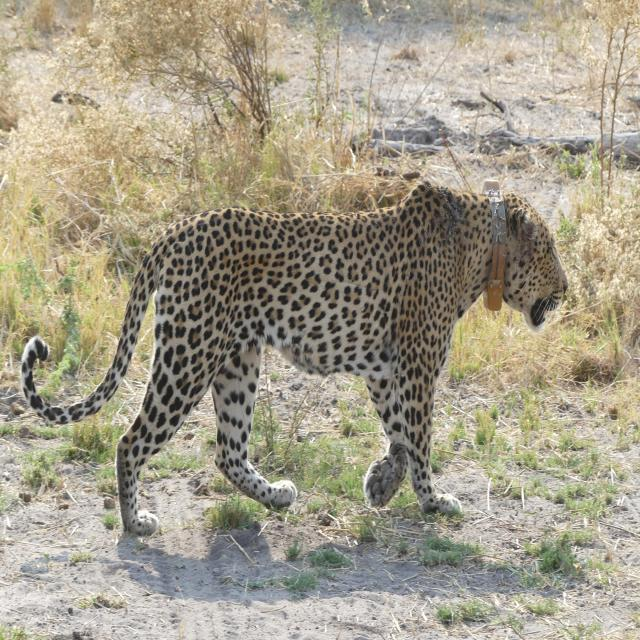Leopard: (5, 155, 605, 596)
